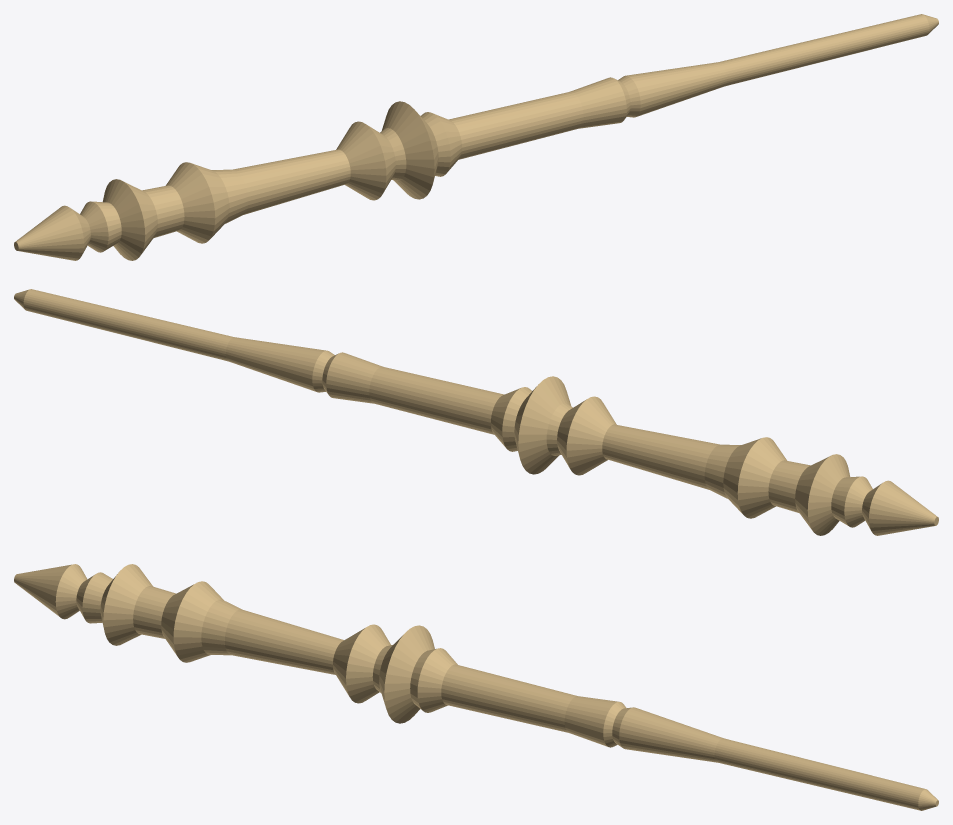
The model's file is Wand1UV.fbx.
3 views of the same model, one above another, from view 1: azimuth 30°, elevation 25°; view 2: azimuth 150°, elevation 25°; view 3: azimuth 330°, elevation 25° (orthographic).
Visible parts, largest first — view 1: Cylinder; view 2: Cylinder; view 3: Cylinder.
Part boxes in pixels (bbox=[...]): Cylinder: bbox=[14, 14, 938, 260]; Cylinder: bbox=[14, 289, 938, 535]; Cylinder: bbox=[14, 564, 938, 810].
Bounding box in the file's own units: 32.38 × 3.06 × 3.06.
